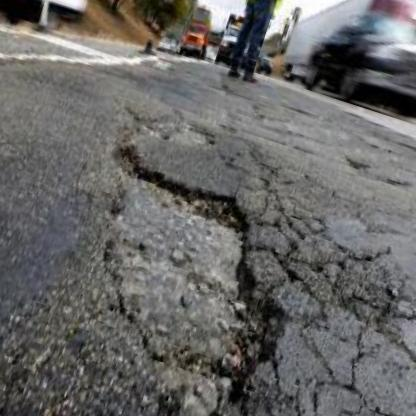pothole: (52, 134, 330, 405), (127, 101, 216, 159), (121, 386, 274, 416)
